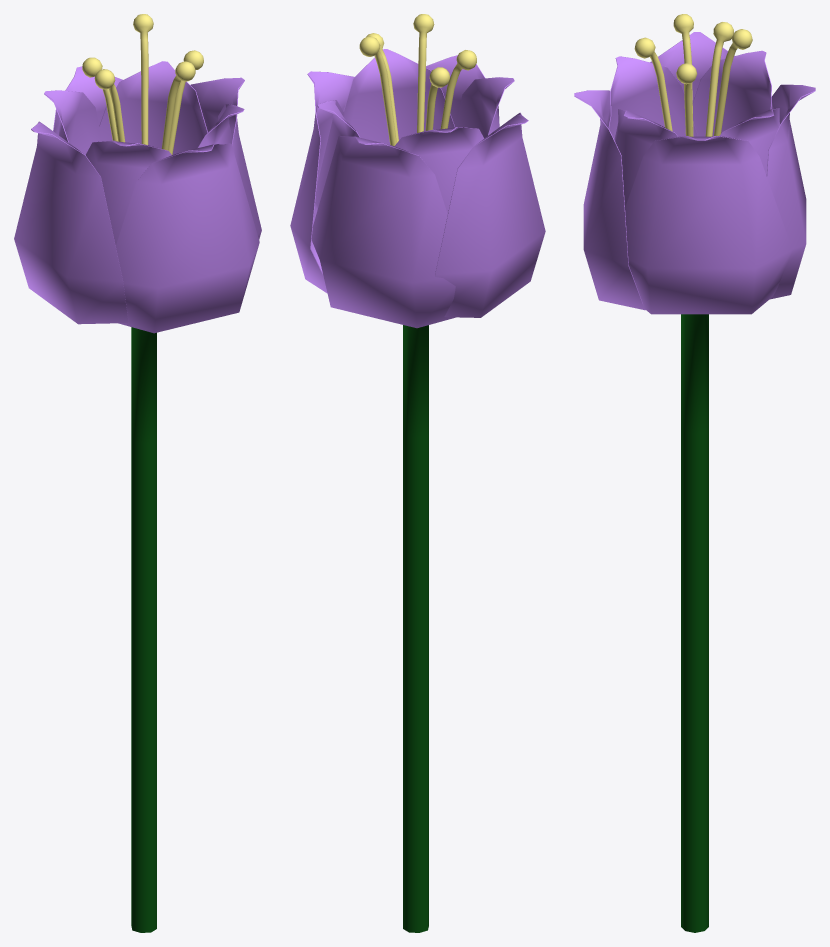
Rendered from Big_Flower_size2.FBX.
3 views of the same model, side by side, from view 1: azimuth 30°, elevation 25°; view 2: azimuth 150°, elevation 25°; view 3: azimuth 270°, elevation 25° (orthographic). The views are drawn at different scales.
Parts seen in each view (by area): view 1: Big_Flower_size2; view 2: Big_Flower_size2; view 3: Big_Flower_size2.
Part boxes in pixels (left/top/right/bottom): Big_Flower_size2: left=14, top=14, right=261, bottom=932; Big_Flower_size2: left=290, top=14, right=545, bottom=932; Big_Flower_size2: left=574, top=14, right=815, bottom=932.
Size of the model in its own units: 6.56 by 26.2 by 6.32.
